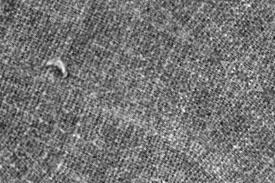snag: (42, 55, 72, 83)
